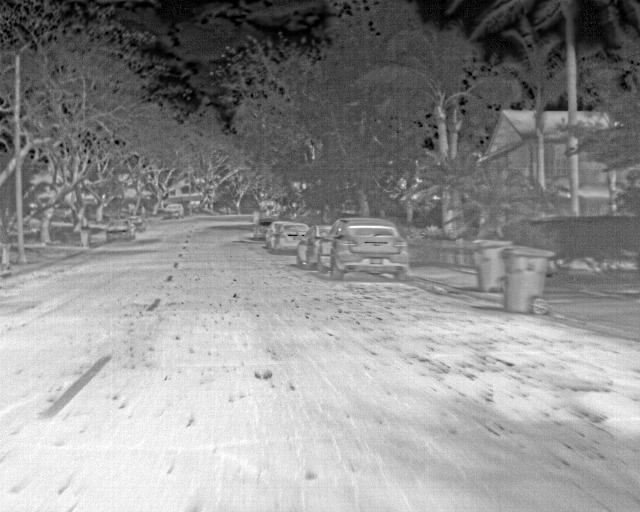car: (317, 213, 410, 282), (299, 224, 330, 266), (276, 222, 306, 253), (106, 216, 135, 239), (261, 221, 282, 247), (161, 201, 183, 219), (127, 214, 144, 230)
